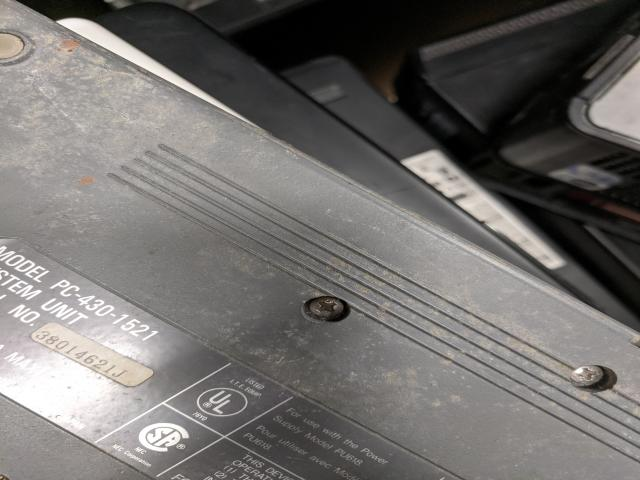CRS: (568, 362, 612, 391), (306, 295, 348, 319)
